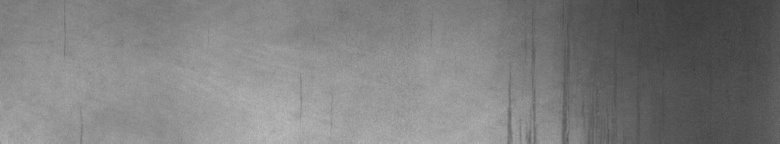ka: (504, 44, 571, 136)
